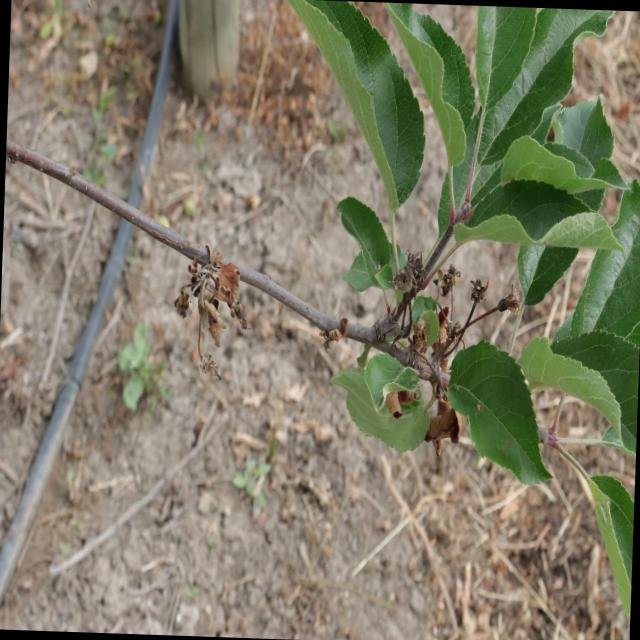-FireBlight-: (382, 302, 475, 447), (171, 251, 252, 382)
